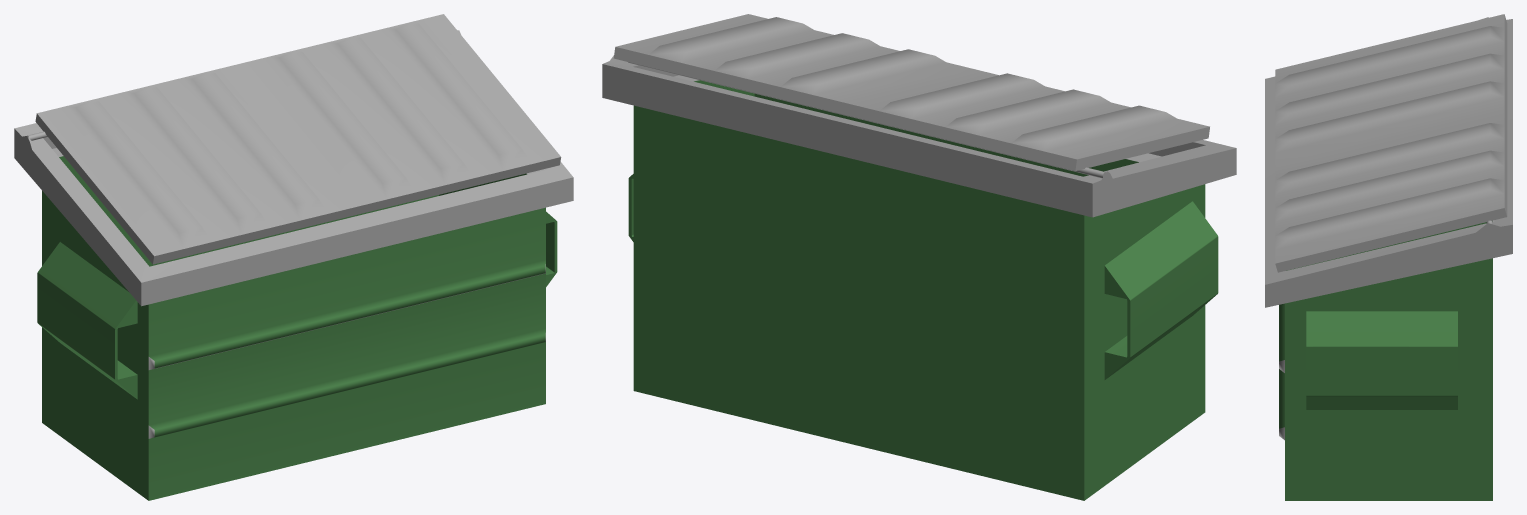
File: Dumpster_TEST.fbx
The picture shows the model from 3 angles, left to right: view 1: azimuth 30°, elevation 25°; view 2: azimuth 150°, elevation 25°; view 3: azimuth 270°, elevation 25°; orthographic projection. The views are drawn at different scales.
Parts seen in each view (by area): view 1: Dumpster_01; view 2: Dumpster_01; view 3: Dumpster_01.
Boxes of the visible parts, bbox=[...] form: Dumpster_01: bbox=[14, 14, 573, 500]; Dumpster_01: bbox=[602, 14, 1236, 500]; Dumpster_01: bbox=[1265, 14, 1512, 500].
Size of the model in its own units: 4.79 by 3.19 by 2.38.
